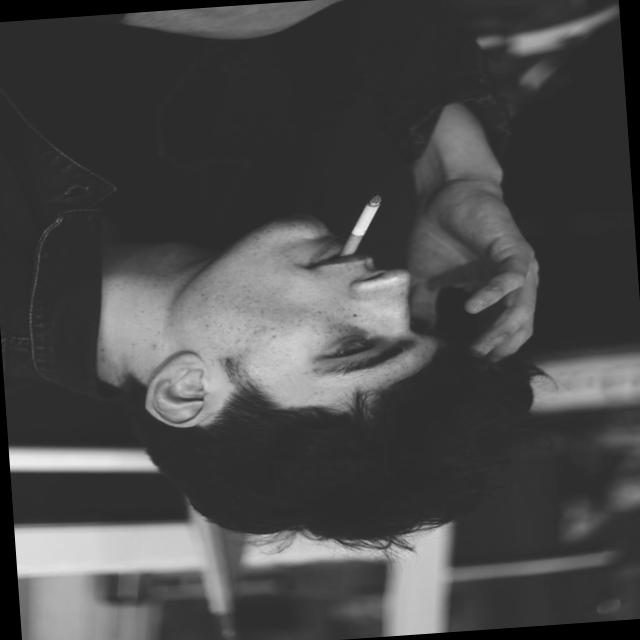cigarette: (320, 197, 382, 266)
